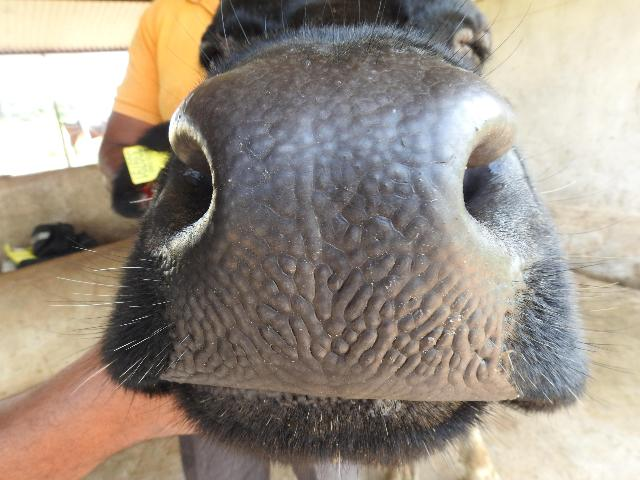Muzzle: (214, 82, 470, 398)
